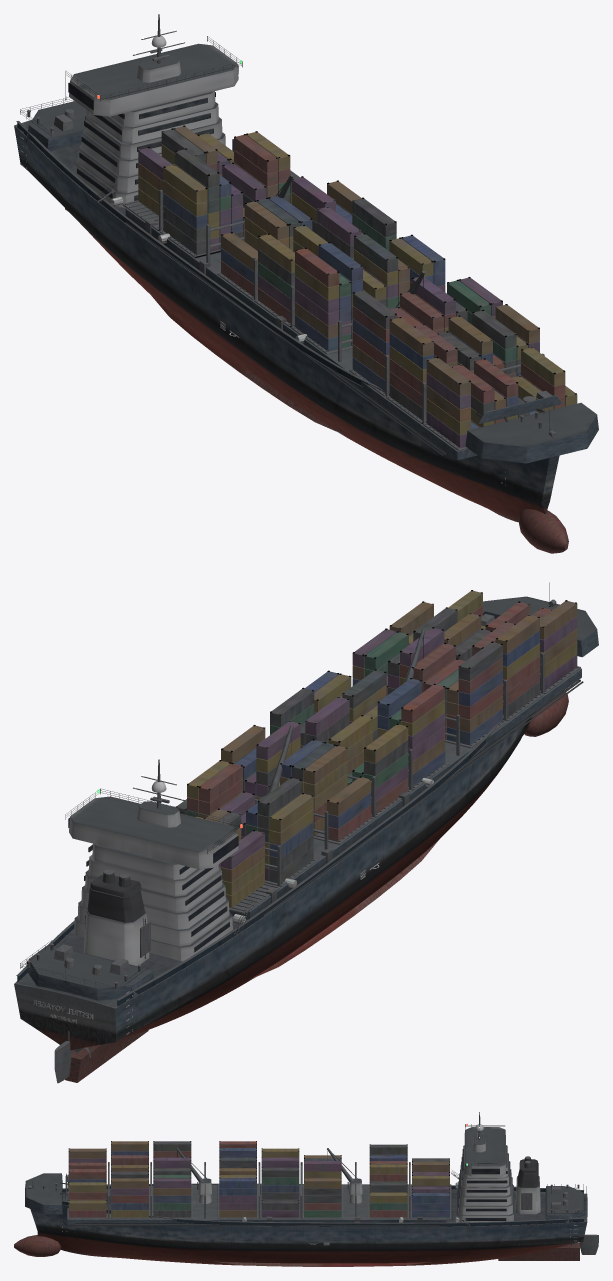
The model's file is merchant_ship.glb.
3 renders of one model, top to bottom at view 1: azimuth 30°, elevation 25°; view 2: azimuth 150°, elevation 25°; view 3: azimuth 270°, elevation 25°, orthographic. The views are drawn at different scales.
Parts seen in each view (by area): view 1: mv_cargo, mv_super, mv_hull, mv_detail; view 2: mv_cargo, mv_super, mv_hull, mv_detail; view 3: mv_hull, mv_cargo, mv_super, mv_detail.
Part boxes in pixels (<box>): mv_cargo: <box>138,125,577,447</box>; mv_super: <box>16,14,598,463</box>; mv_hull: <box>14,120,568,553</box>; mv_detail: <box>20,29,550,486</box>; mv_cargo: <box>175,590,577,908</box>; mv_super: <box>16,596,598,1006</box>; mv_hull: <box>14,691,568,1083</box>; mv_detail: <box>20,582,583,1034</box>; mv_hull: <box>14,1189,598,1266</box>; mv_cargo: <box>68,1141,449,1217</box>; mv_super: <box>25,1112,584,1226</box>; mv_detail: <box>32,1123,586,1245</box>.
Size of the model in its own units: 31.84 by 52.78 by 190.
Materials: 21 (21 with a texture image).
